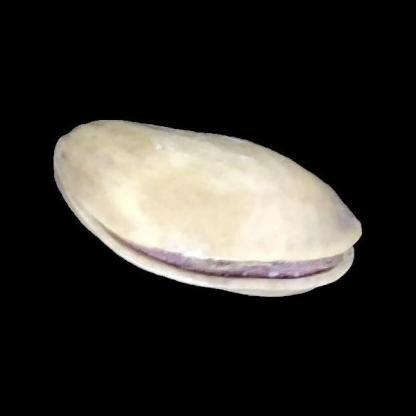pistachio: (50, 116, 370, 297)
